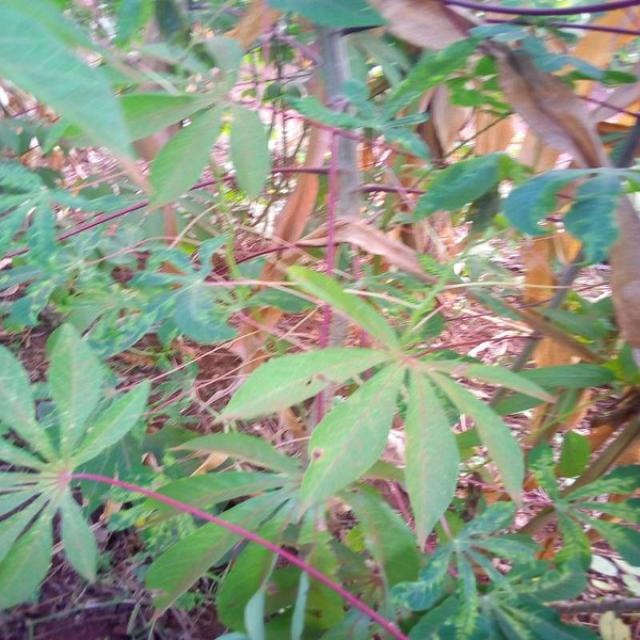cassava leaf: (1, 1, 638, 637), (0, 320, 150, 611)
